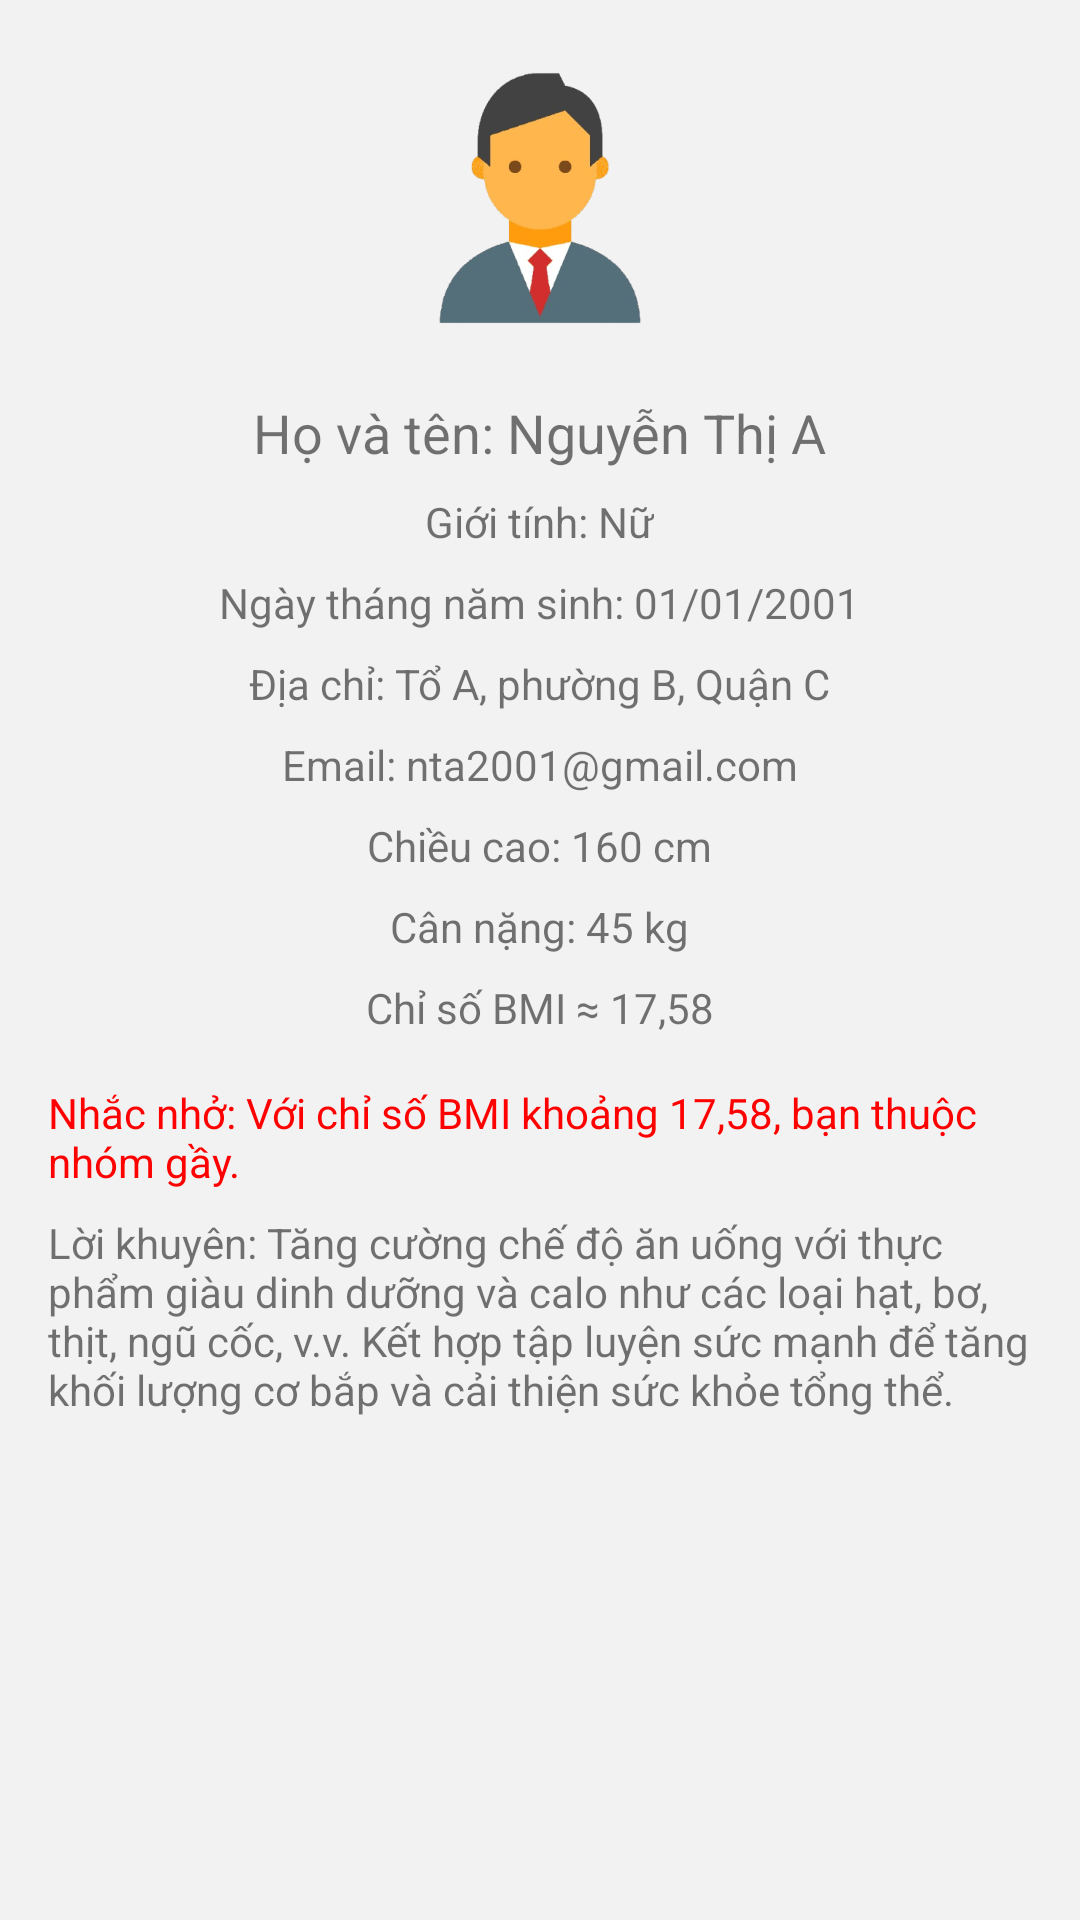

Named icons in this screenshot (1080 x 1920) and their centers, (x,y):
Profile Image: (540,198)
